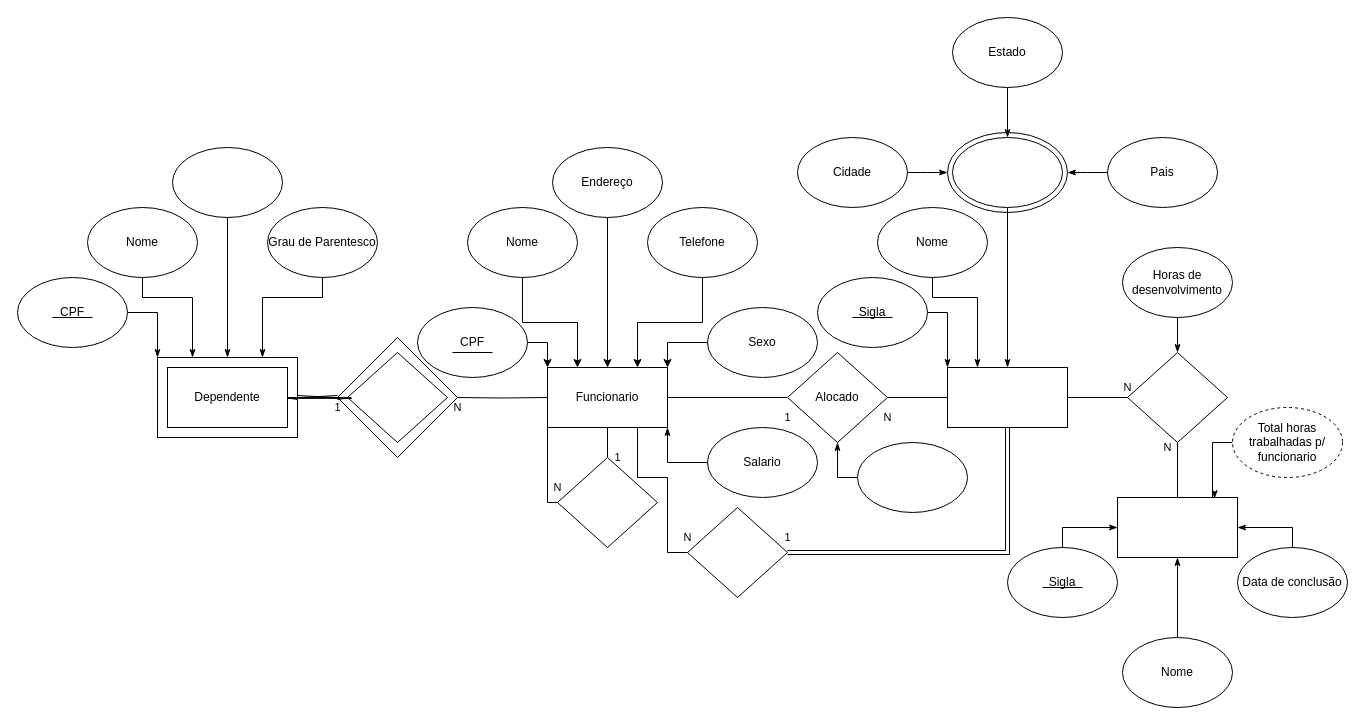
This 1365x725 diagram has some shape labels left out. Here are the shapes that lost their labels. From the top down, the centre of each, then its label:
pixel 227 182: Data de Nacimento
pixel 1007 172: Local
pixel 397 397: Depende
pixel 1007 397: Departamento
pixel 1177 397: Desenvolve
pixel 912 477: Horas de projeto
pixel 607 502: Supervisiona
pixel 1177 527: Projeto
pixel 737 552: Gerencia
